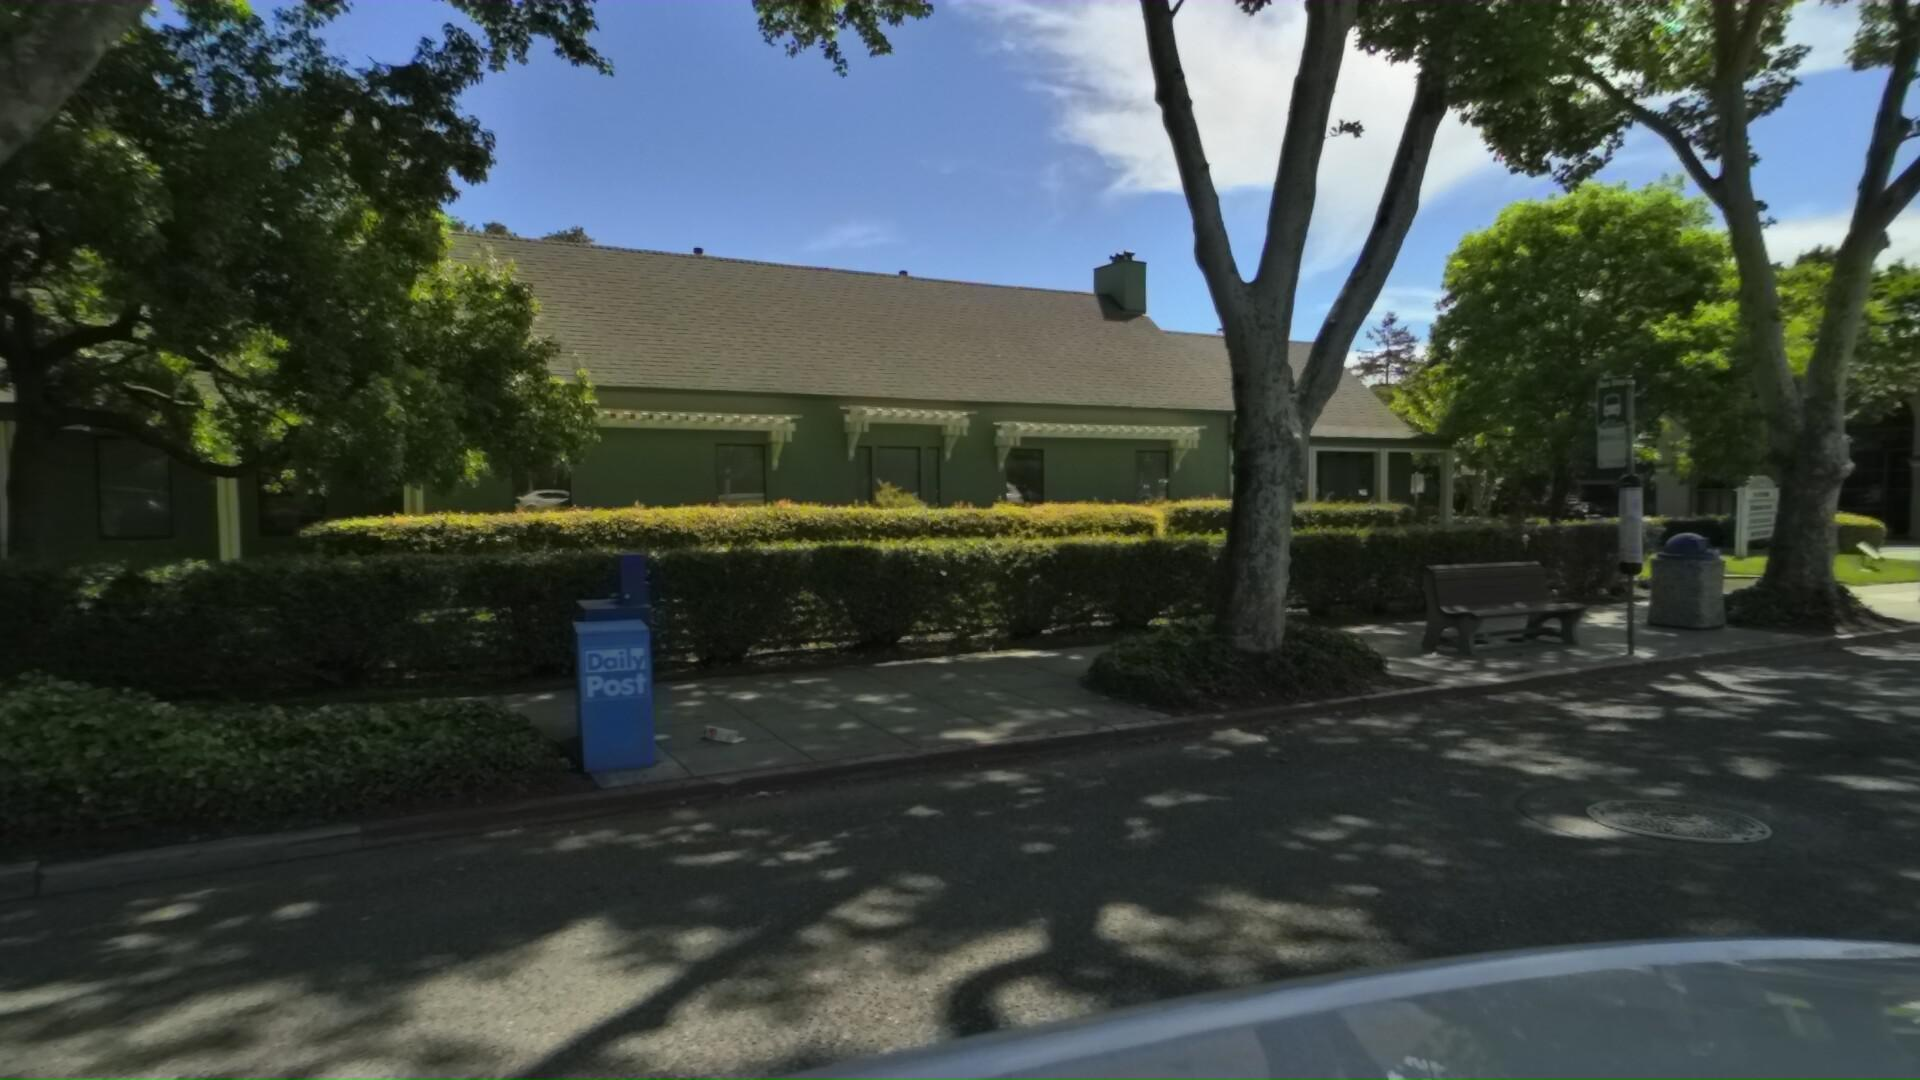car: (1582, 487, 1640, 518), (1551, 495, 1613, 524)
